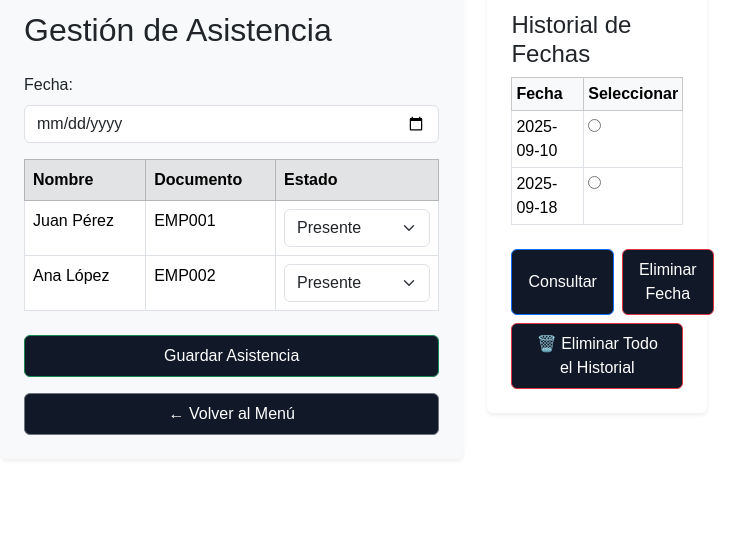
Test case: GestionAsistencia › elimina todo el historial correctamente
The width and height of the screenshot is (731, 552).
Expected: the text "Juan Pérez" is shown, [24,201,146,256]
Click the button "🗑️ Eliminar Todo el Historial".
click(597, 356)  # box [511,323,683,389]
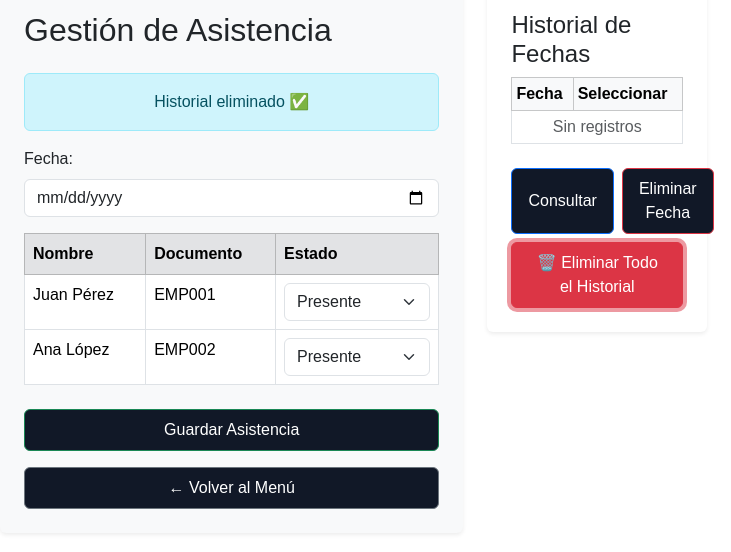
Result: the text "Historial eliminado ✅" is shown at [24,73,439,131]
